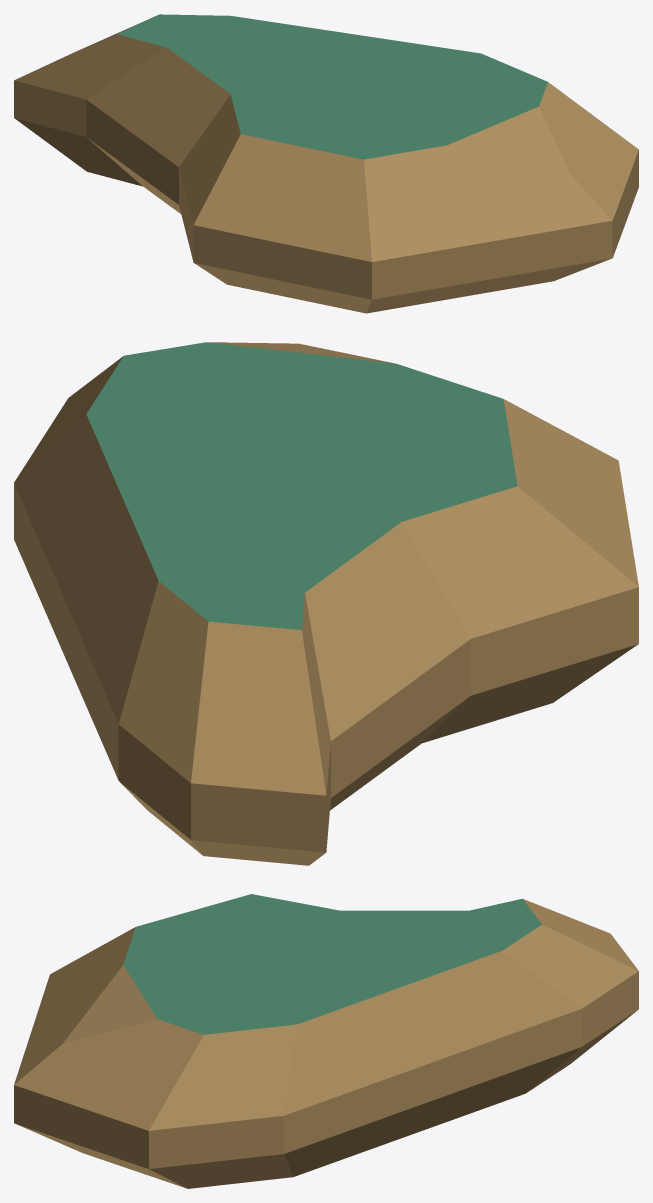
The model's file is naturePack_155.obj.
3 renders of one model, top to bottom at view 1: azimuth 30°, elevation 25°; view 2: azimuth 150°, elevation 25°; view 3: azimuth 270°, elevation 25°, orthographic. The views are drawn at different scales.
Parts seen in each view (by area): view 1: Mesh1_Group1_Model.071; view 2: Mesh1_Group1_Model.071; view 3: Mesh1_Group1_Model.071.
Part boxes in pixels (<box>): Mesh1_Group1_Model.071: <box>14,14,638,313</box>; Mesh1_Group1_Model.071: <box>14,342,638,865</box>; Mesh1_Group1_Model.071: <box>14,894,638,1188</box>.
Bounding box in the file's own units: 2.18 × 0.72 × 2.81.
